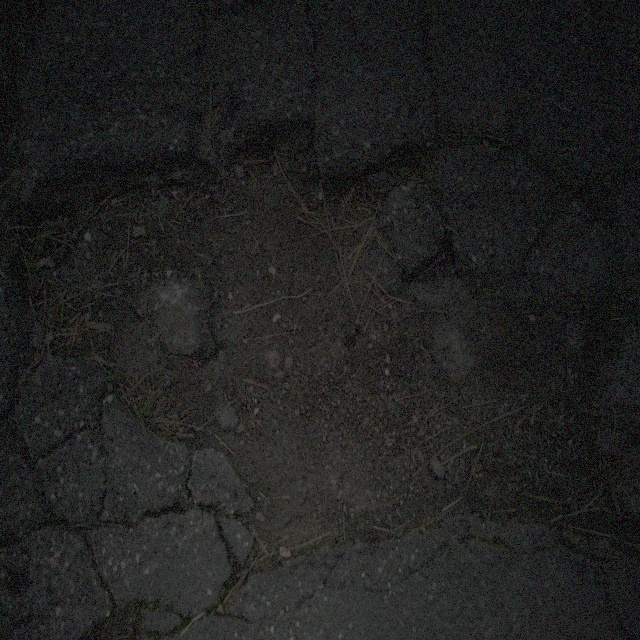pothole: (24, 116, 628, 566)
